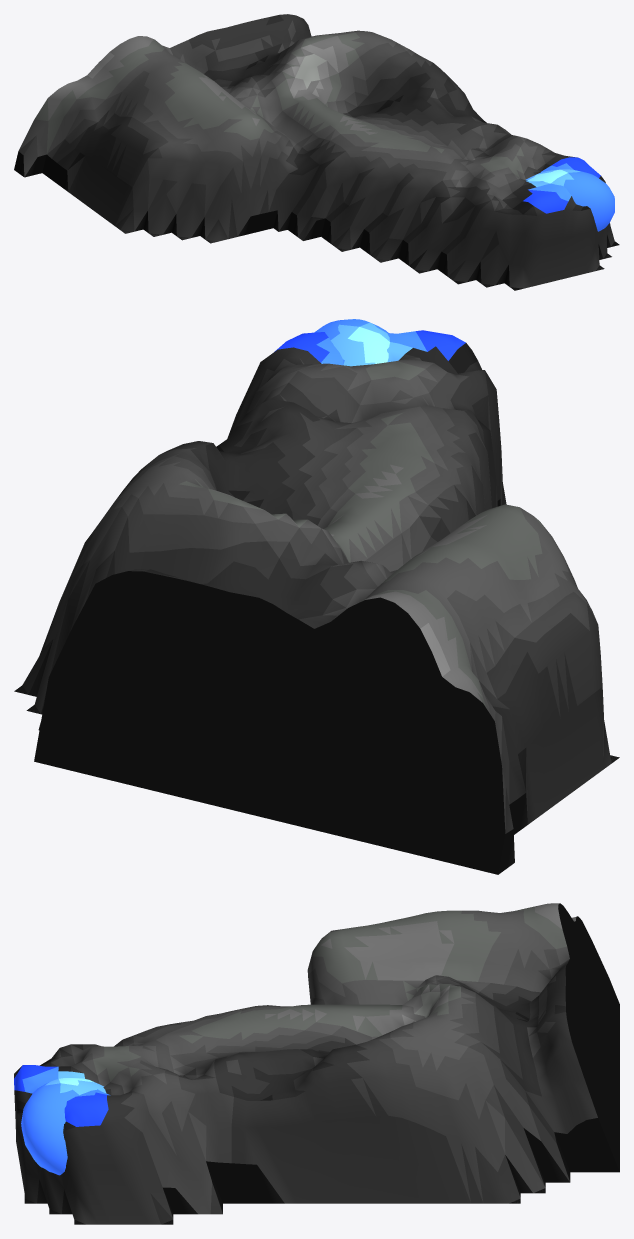
The model's file is eyespy_r_arm.glb.
3 renders of one model, top to bottom at view 1: azimuth 30°, elevation 25°; view 2: azimuth 150°, elevation 25°; view 3: azimuth 270°, elevation 25°, orthographic. The views are drawn at different scales.
Parts seen in each view (by area): view 1: eyespy_r_arm; view 2: eyespy_r_arm; view 3: eyespy_r_arm.
Boxes of the visible parts, bbox=[...] form: eyespy_r_arm: bbox=[14, 14, 619, 290]; eyespy_r_arm: bbox=[14, 319, 619, 874]; eyespy_r_arm: bbox=[14, 903, 619, 1224].
Size of the model in its own units: 21 by 6.85 by 24.43.
